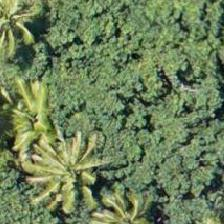coconut_tree: (0, 0, 45, 63)
